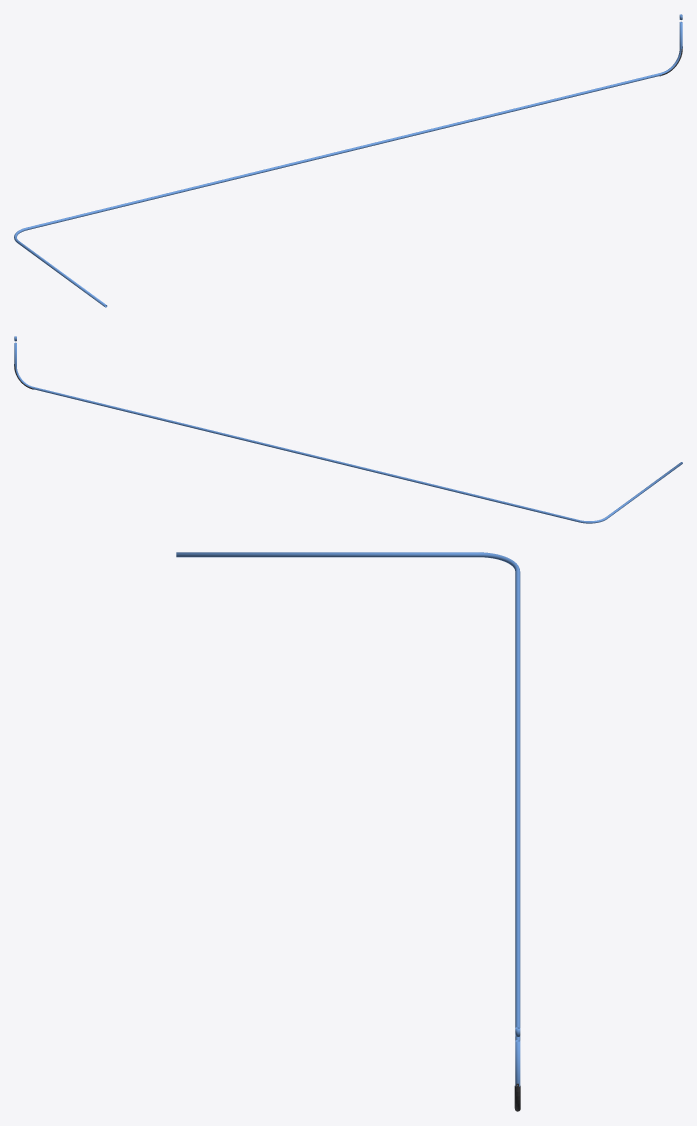
Rendered from slab_pipes_supply__water-city_filter_and_plumbing-pex+pex_branch_and_softener-no.glb.
The picture shows the model from 3 angles, top to bottom: view 1: azimuth 30°, elevation 25°; view 2: azimuth 150°, elevation 25°; view 3: azimuth 270°, elevation 25°; orthographic projection. The views are drawn at different scales.
Parts seen in each view (by area): view 1: pipe_supply_house_entry__pex; view 2: pipe_supply_house_entry__pex; view 3: pipe_supply_house_entry__pex.
Part boxes in pixels (box(x1,y1,x2,y2)): pipe_supply_house_entry__pex: box(14, 14, 682, 307); pipe_supply_house_entry__pex: box(14, 336, 682, 523); pipe_supply_house_entry__pex: box(176, 552, 520, 1086).
Bounding box in the file's own units: 7.77 × 0.6146 × 1.99.
